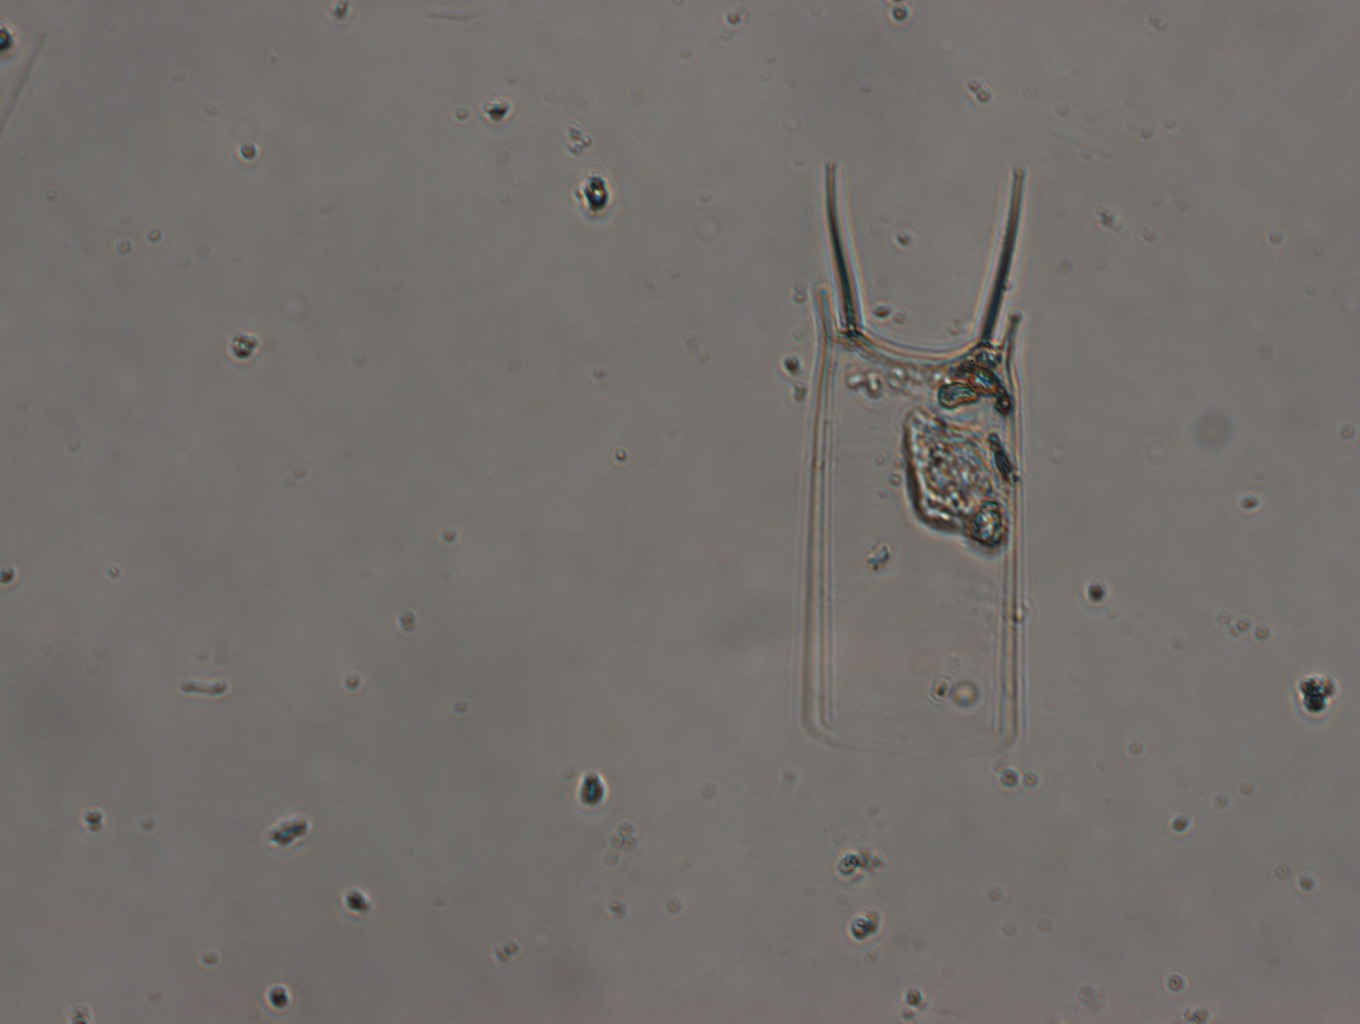biddulphia: (797, 158, 1026, 753)
